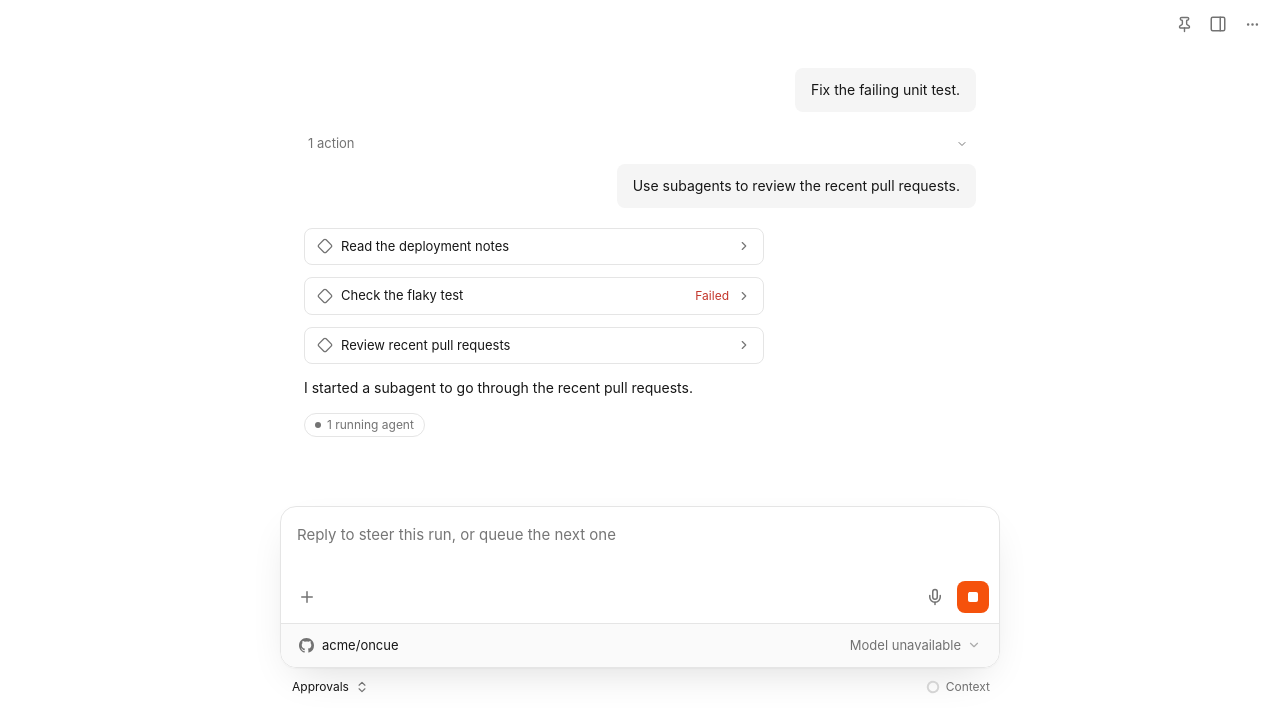
it: subagents on the session screen › a refused stop frees the button and says why on the subagent's row
This screenshot has width=1280, height=720.
Click the button "1 running agent" at (364, 425), box [304,413,425,437]
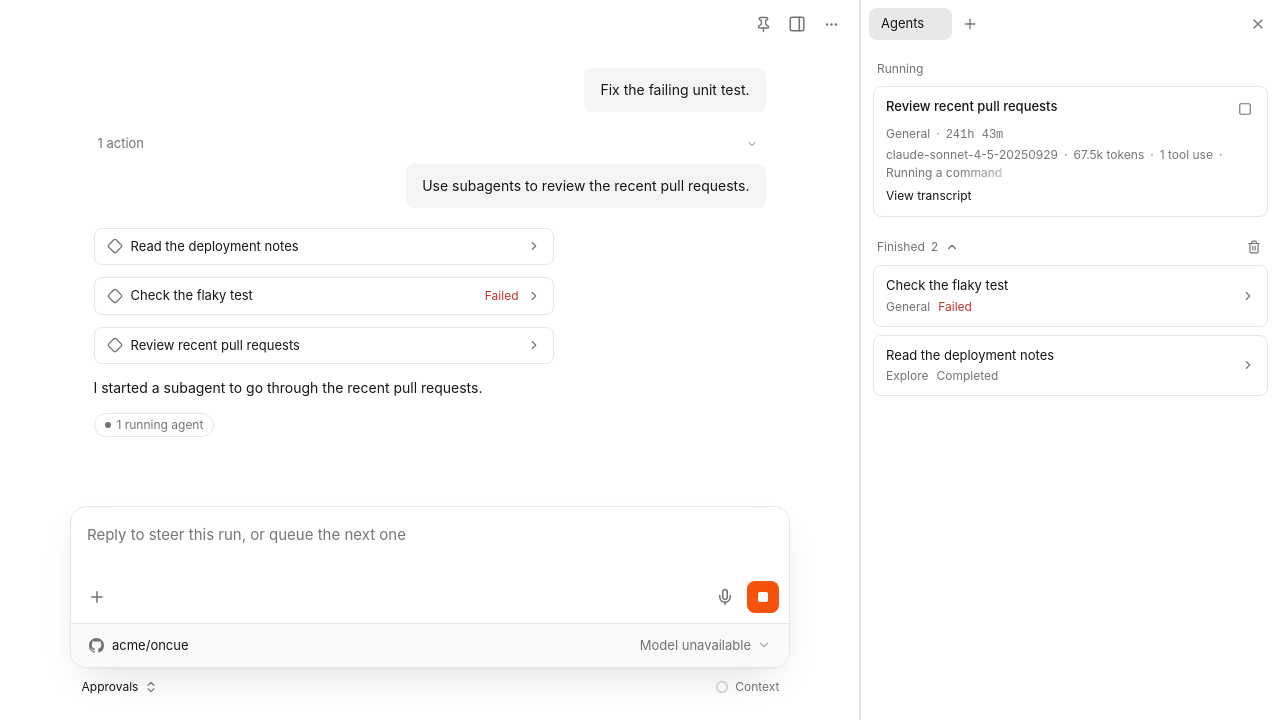
Click the button named "Stop subagent: Review recent pull requests" at (1245, 109), box [1231,95,1259,123]
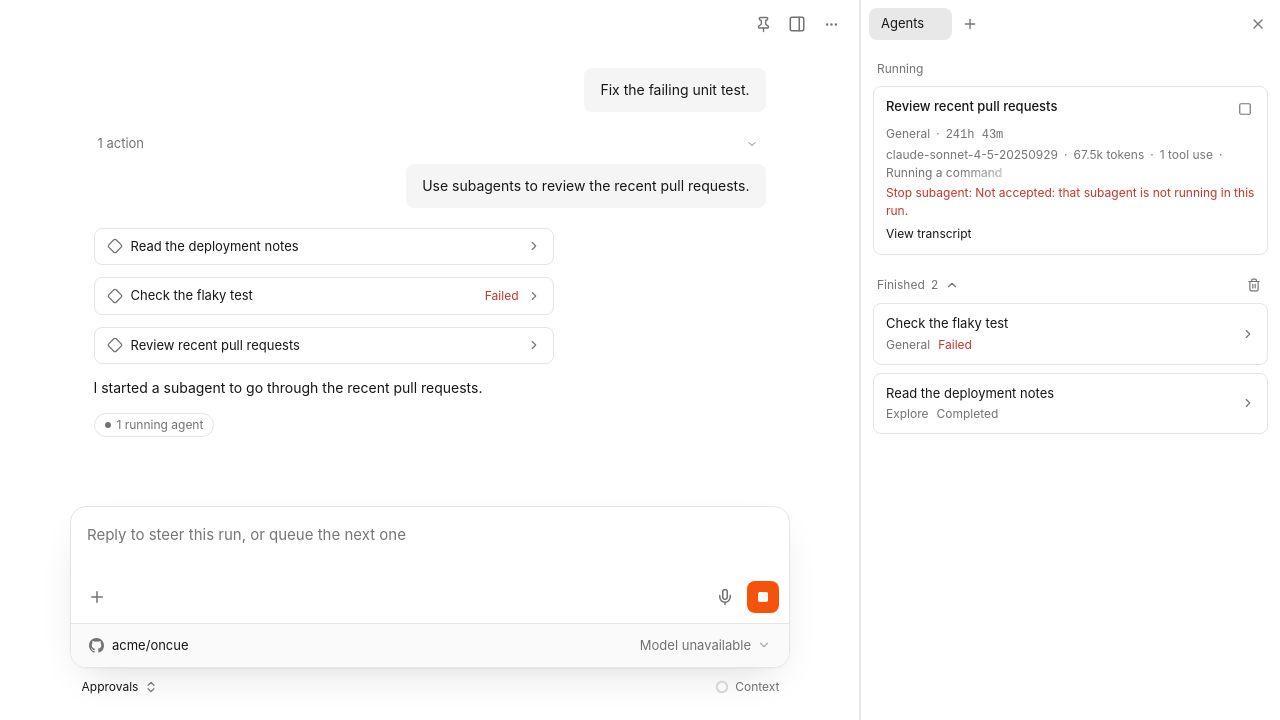
Check: the button named "Stop subagent" is enabled, box [1231,95,1259,123]
Check: the message with test id "agent-stop-problem" reads "Stop subagent: Not accepted: that subagent is not running in this run.", box [886,184,1255,220]
